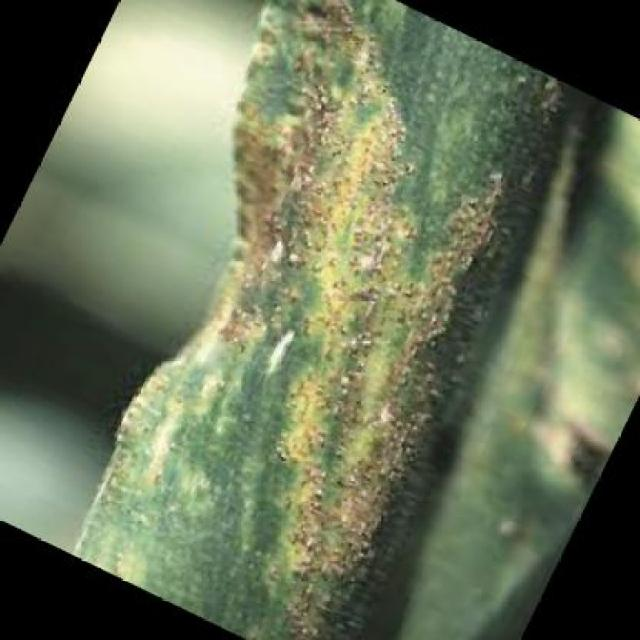Corn_Rust: (171, 66, 523, 602)
